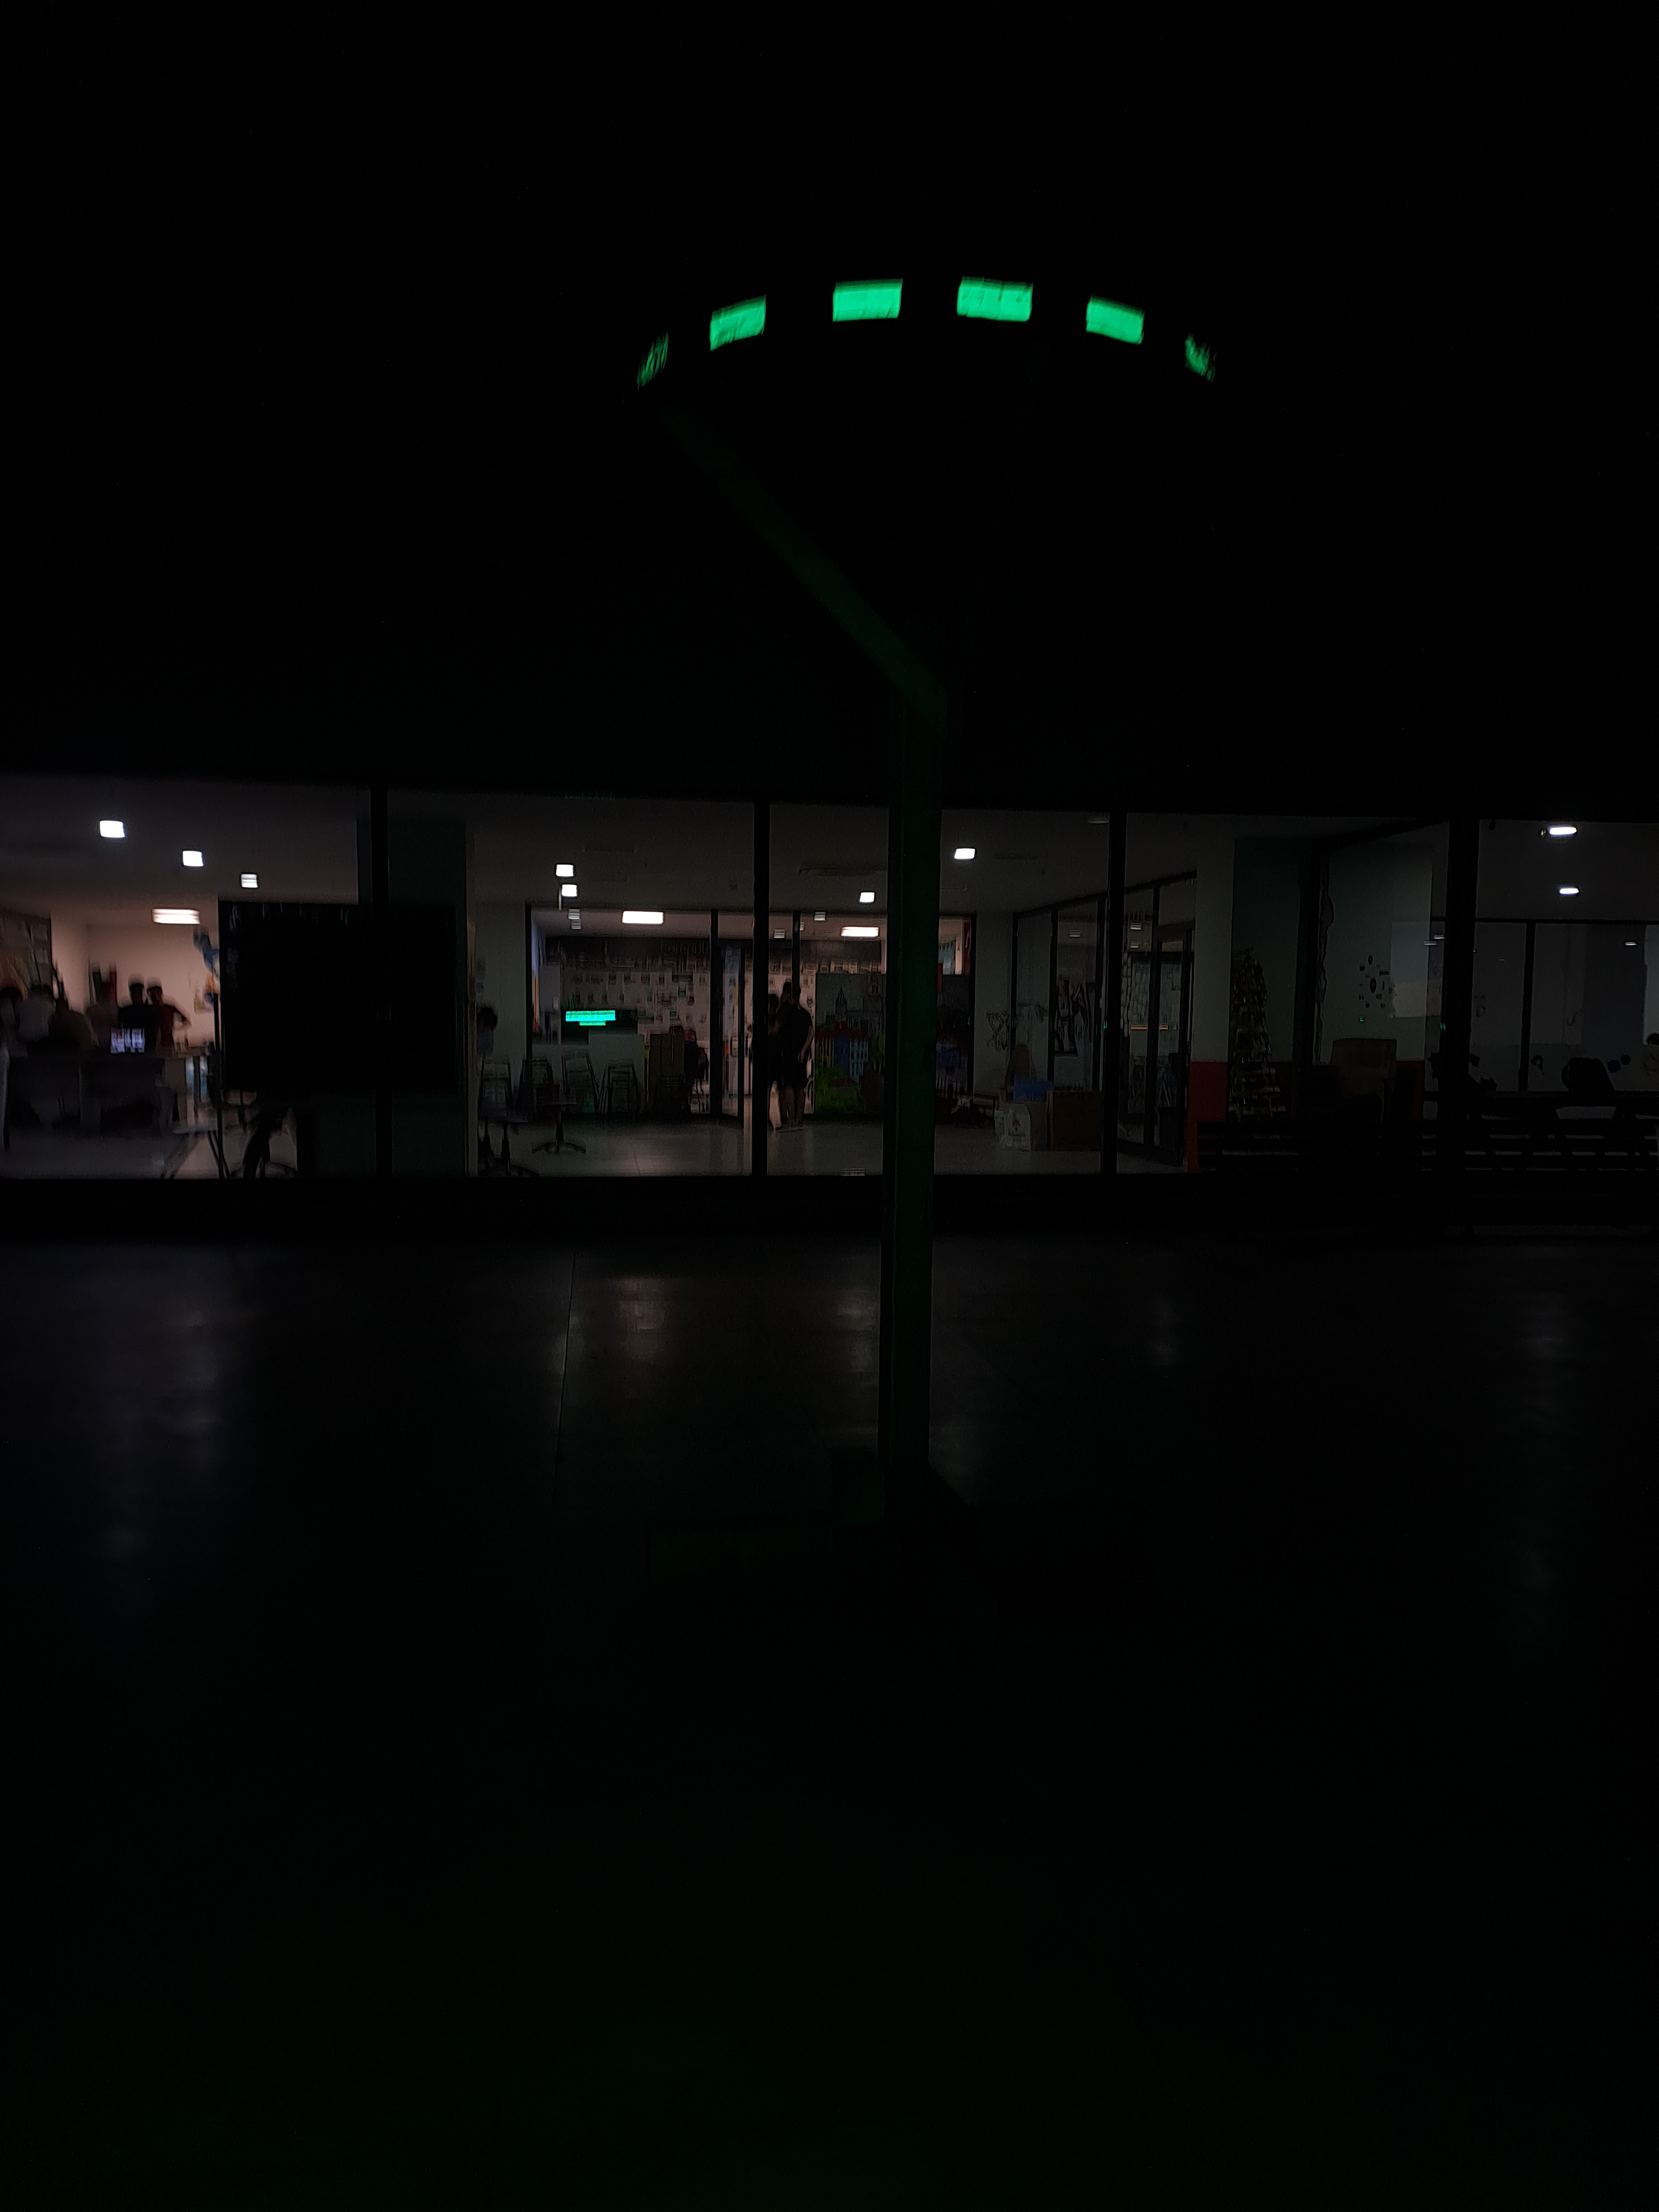hoop: (627, 273, 1225, 402)
